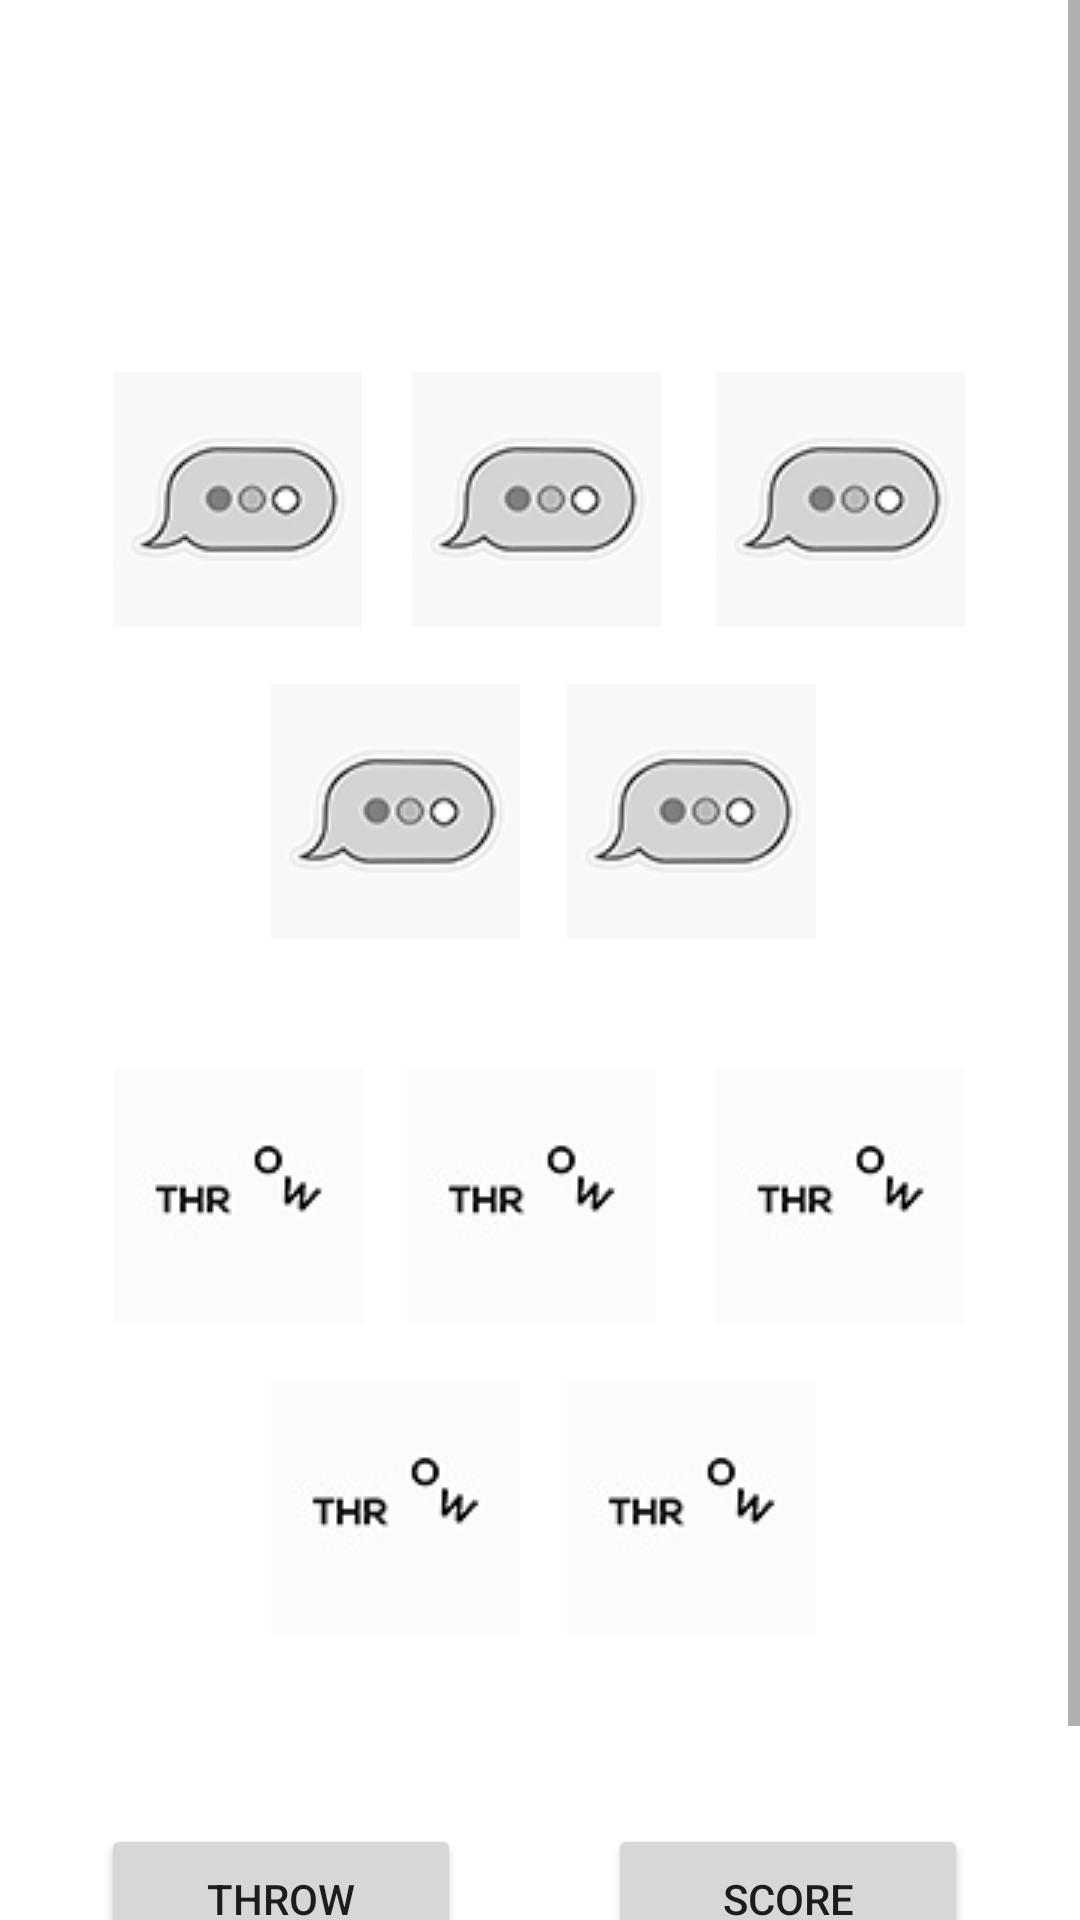

Screen size 1080 x 1920. Icon name, then its center in pixels as [x,y]:
waiting: [239,499], [538,499], [842,499], [397,811], [693,811]
